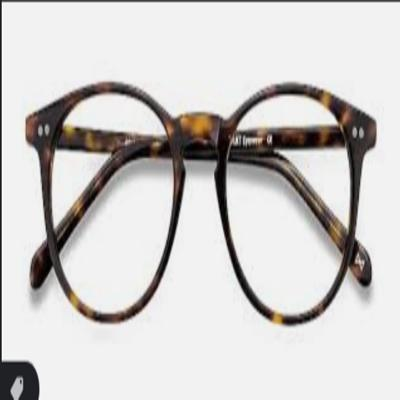glasses: (20, 77, 392, 329)
